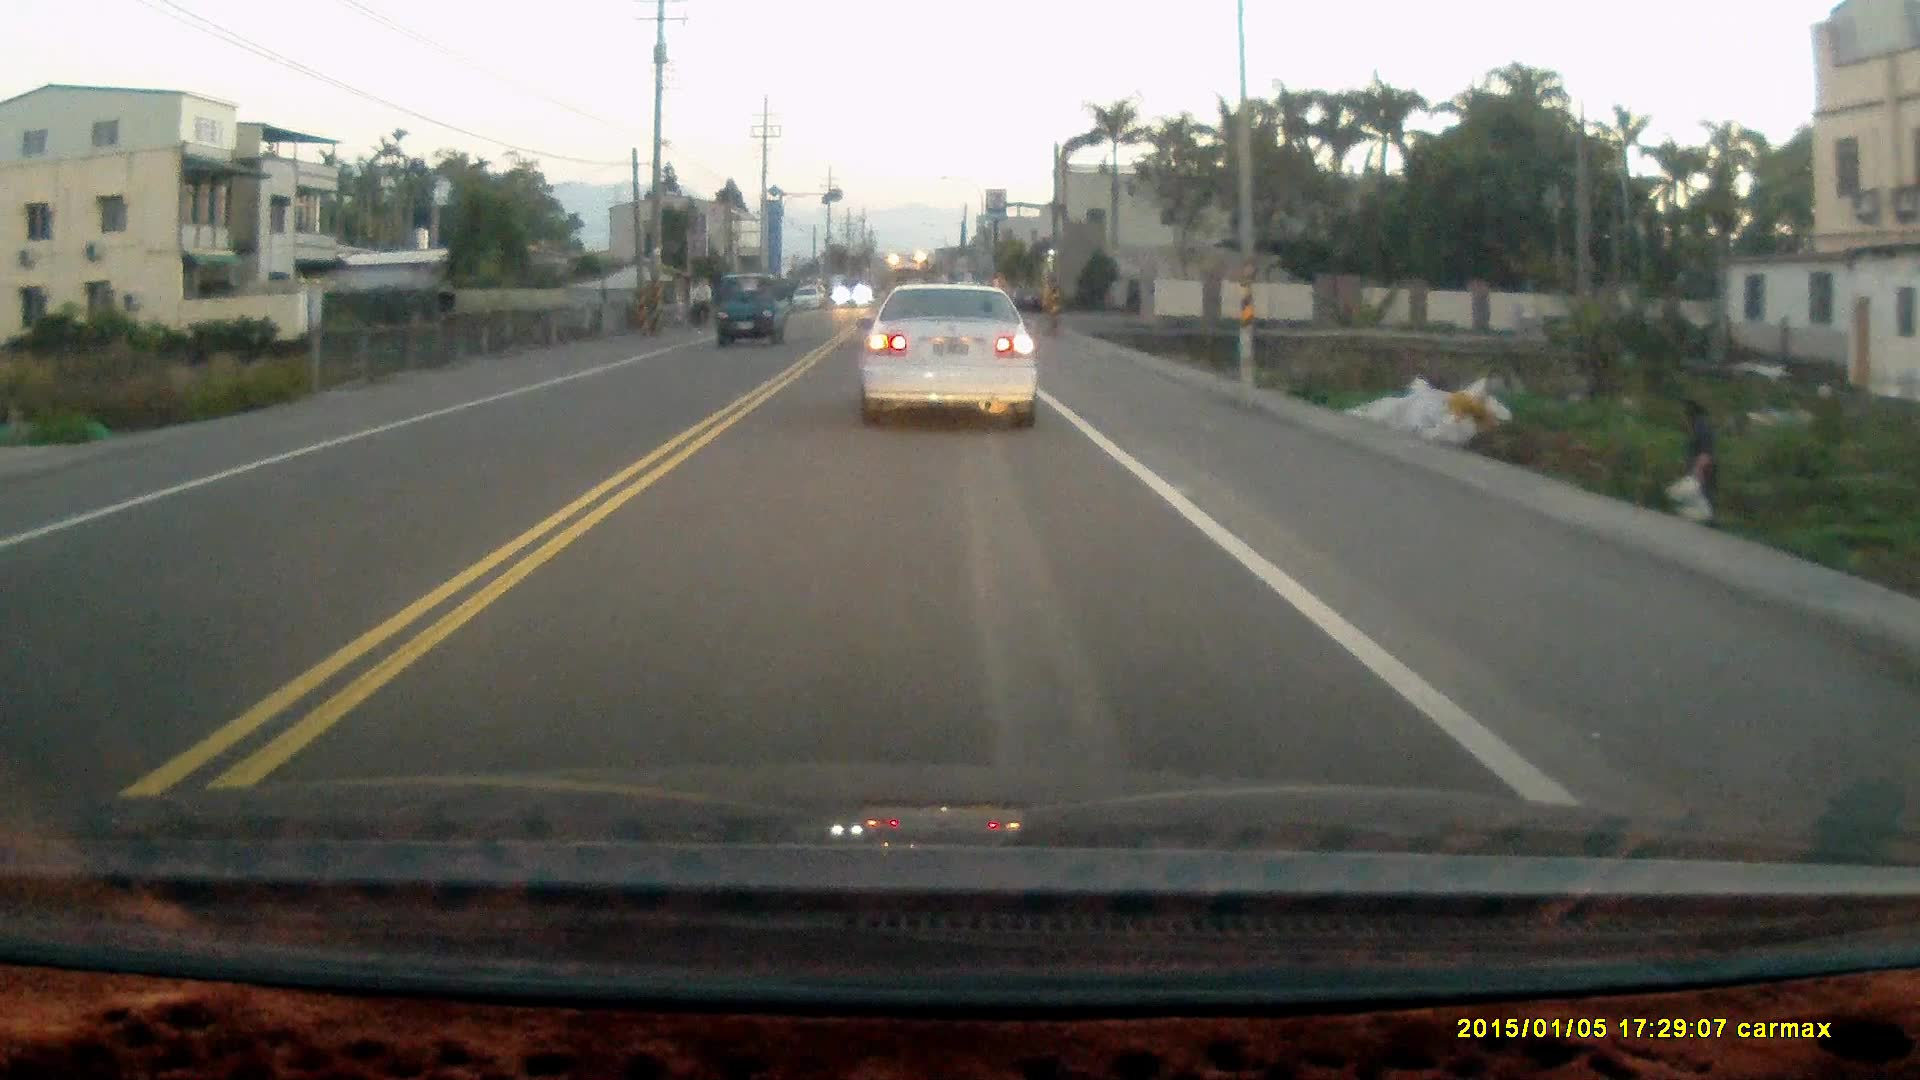pedestrian: (1673, 396, 1720, 536)
rider: (688, 274, 713, 333)
vehicle: (861, 284, 1045, 429), (714, 273, 792, 350), (838, 279, 866, 310), (793, 286, 824, 311)
